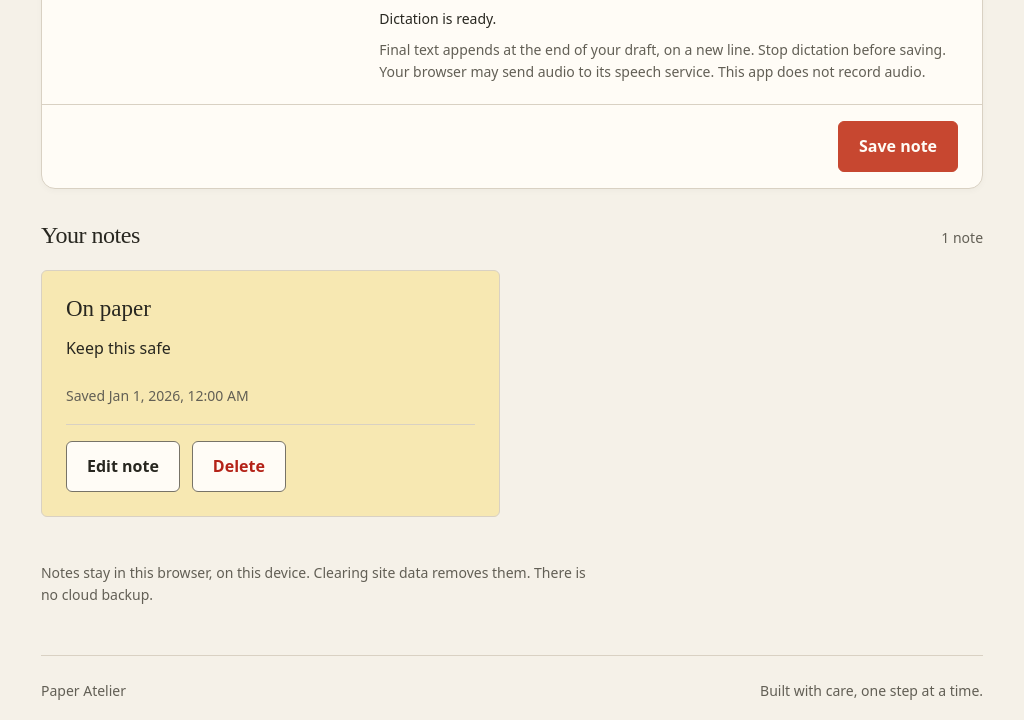
it: supports content-only edits without duplicates
(page scrolled)
Click the button with aria-label "Edit note: On paper" at (123, 466), box [66,441,180,492]
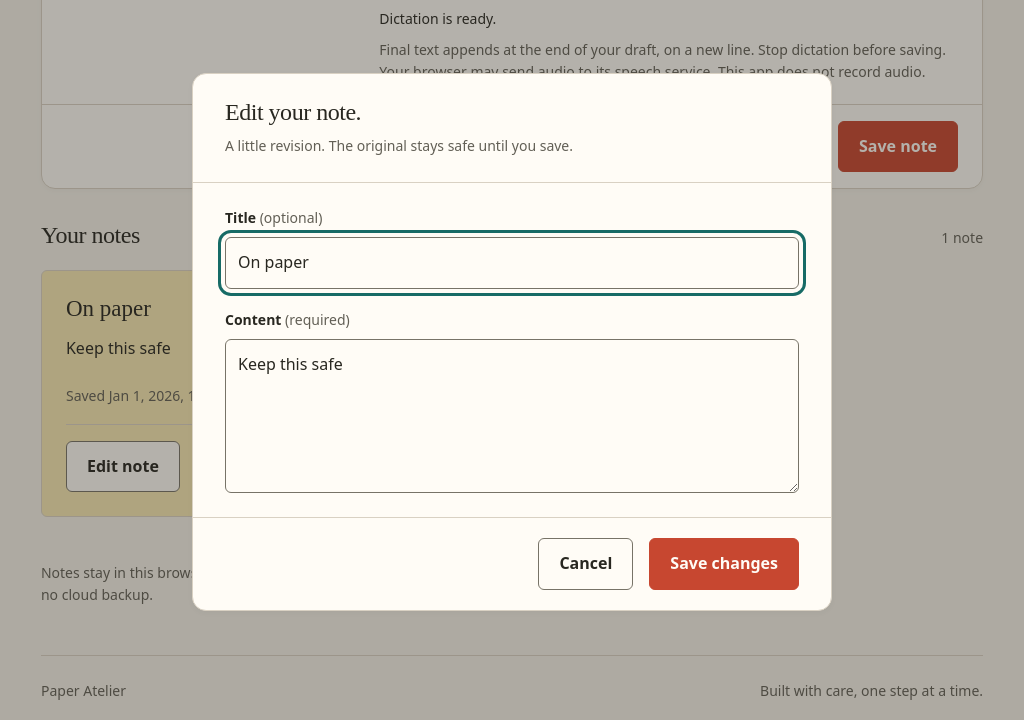
Replace the text in the text box labelled "Content (required)" with "Only this changes" at (512, 416), box [225,339,799,493]
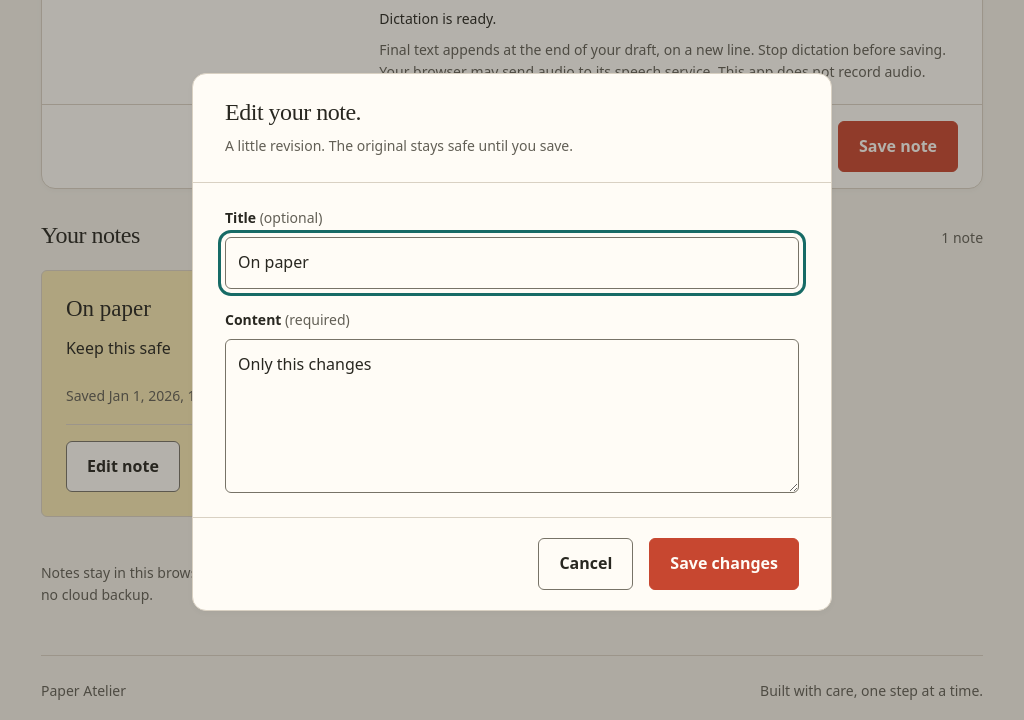
Click the button "Save changes" at (724, 564), box [649,538,799,590]
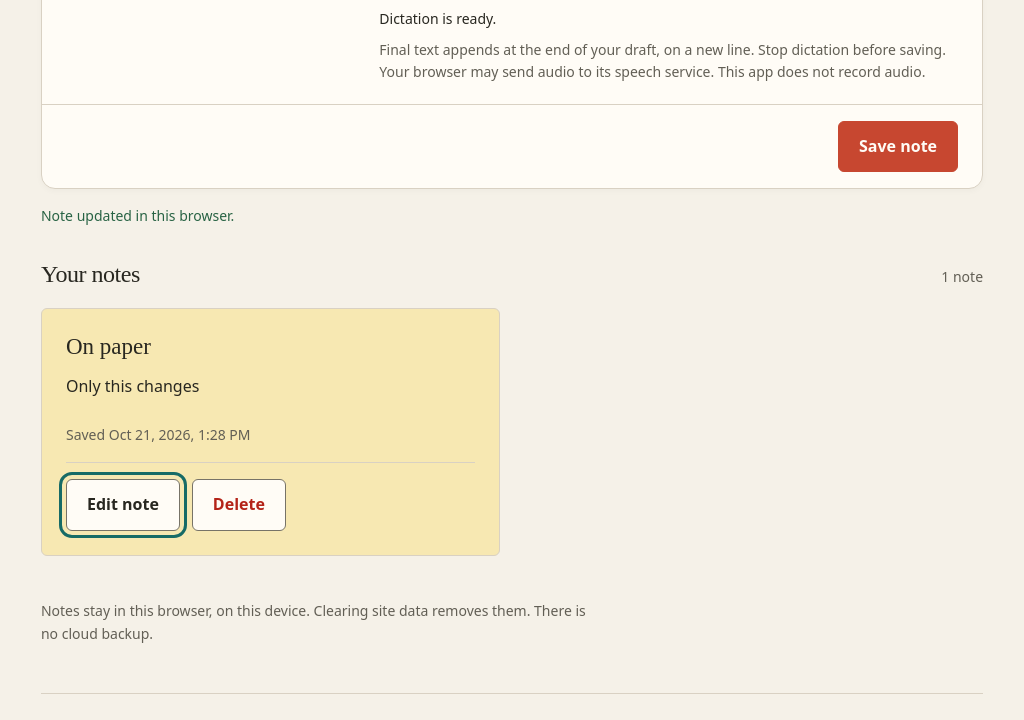
Expected: the heading "On paper" is shown, [66,334,151,359]
Expected: the text "Only this changes" is shown, [66,375,199,397]
